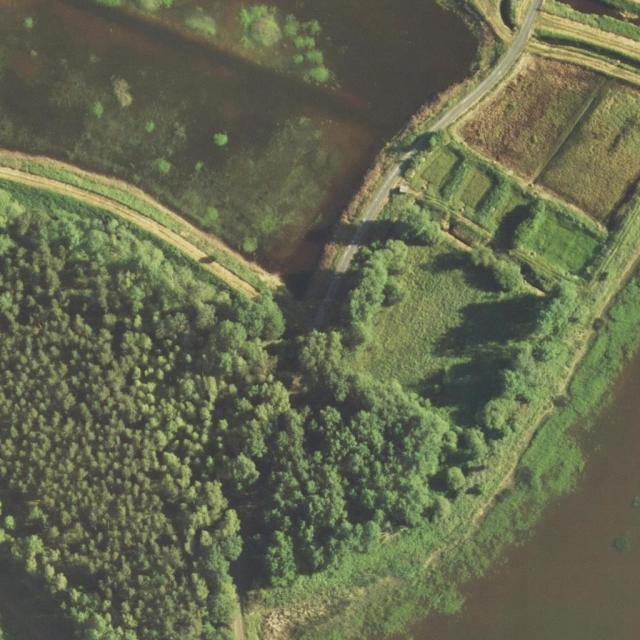greenland: (0, 139, 640, 640)
metalled_road: (282, 0, 563, 321)
